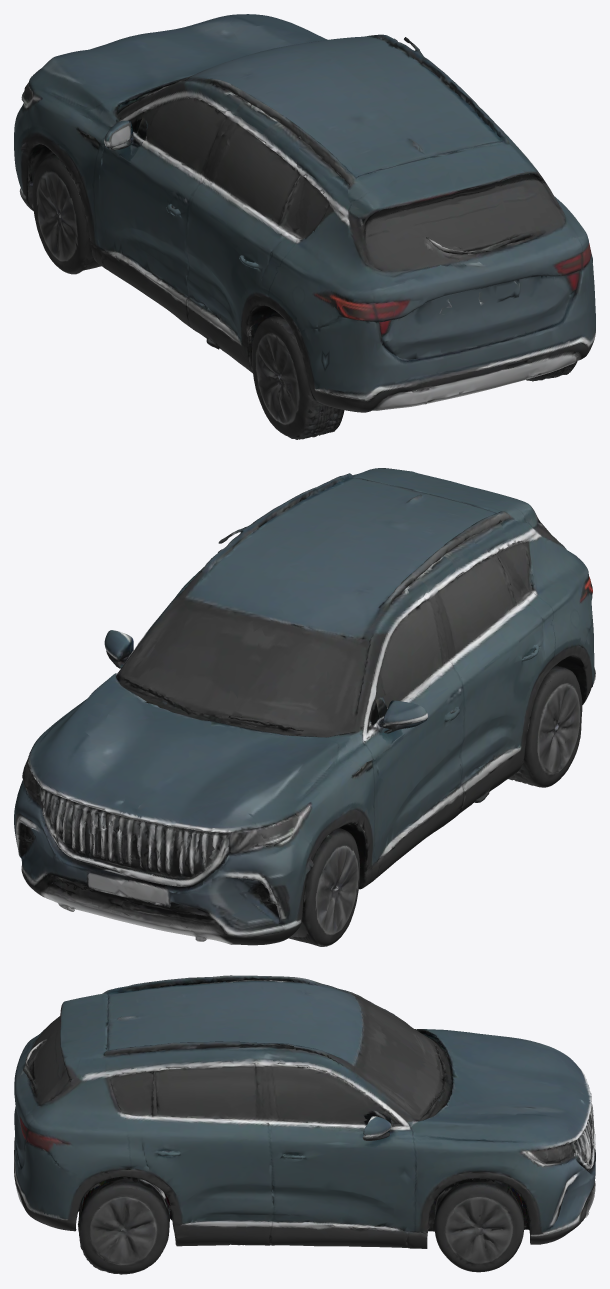
File: tugra_t10.glb
3 renders of one model, top to bottom at view 1: azimuth 30°, elevation 25°; view 2: azimuth 150°, elevation 25°; view 3: azimuth 270°, elevation 25°, orthographic. The views are drawn at different scales.
Visible parts, largest first — view 1: Body, Wheel_RL, Wheel_FL; view 2: Body, Wheel_RL, Wheel_FL; view 3: Body, Wheel_RR, Wheel_FR.
Part boxes in pixels (x1,y1,x2,y2): Body: [14, 14, 595, 412]; Wheel_RL: [246, 319, 344, 439]; Wheel_FL: [27, 157, 101, 274]; Body: [14, 468, 595, 945]; Wheel_RL: [508, 669, 582, 787]; Wheel_FL: [288, 831, 367, 946]; Body: [14, 975, 595, 1248]; Wheel_RR: [70, 1187, 177, 1274]; Wheel_FR: [427, 1186, 529, 1272].
Bounding box in the file's own units: 2.36 × 1.87 × 4.6.
Materials: 1 (1 with a texture image).
